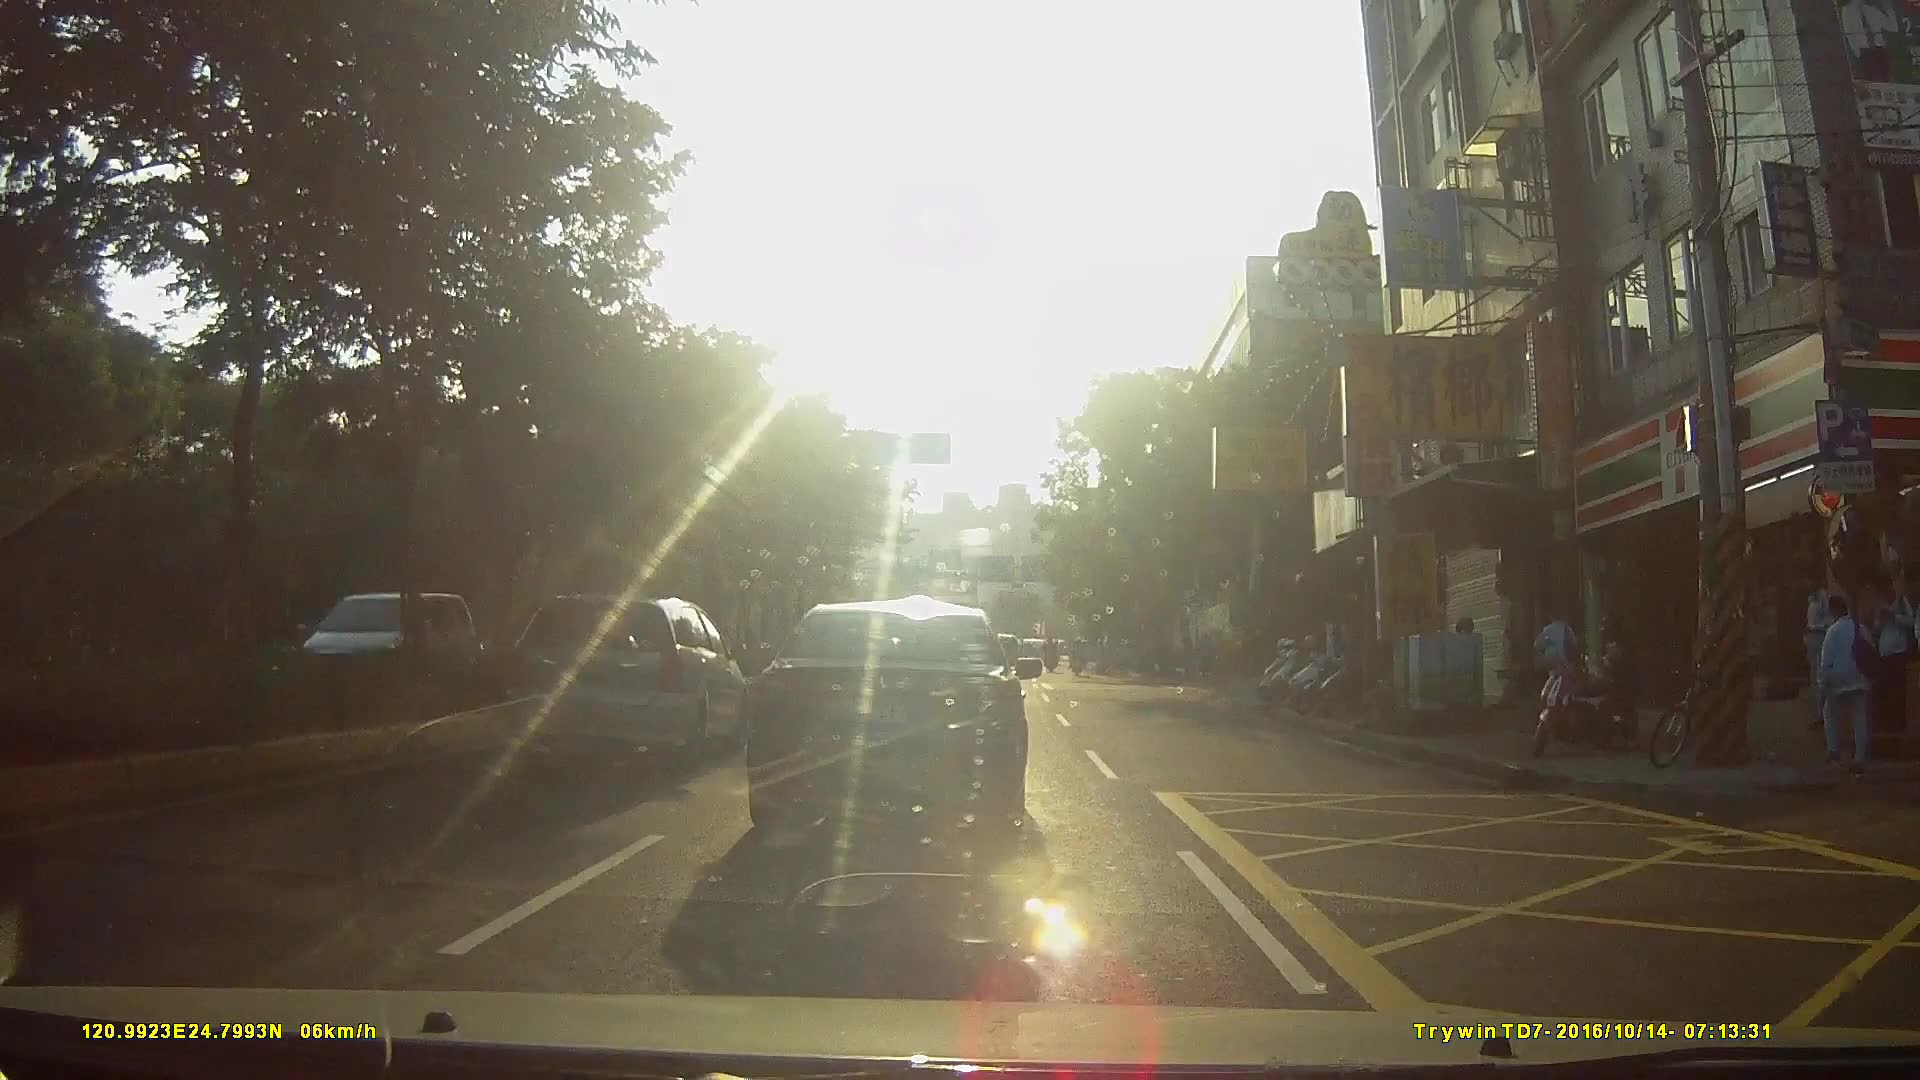pedestrian: (1820, 595, 1892, 780), (1586, 617, 1637, 754), (1534, 603, 1589, 720), (1901, 563, 1920, 732)
vehicle: (743, 600, 1046, 851), (503, 589, 761, 767), (301, 590, 500, 696)
